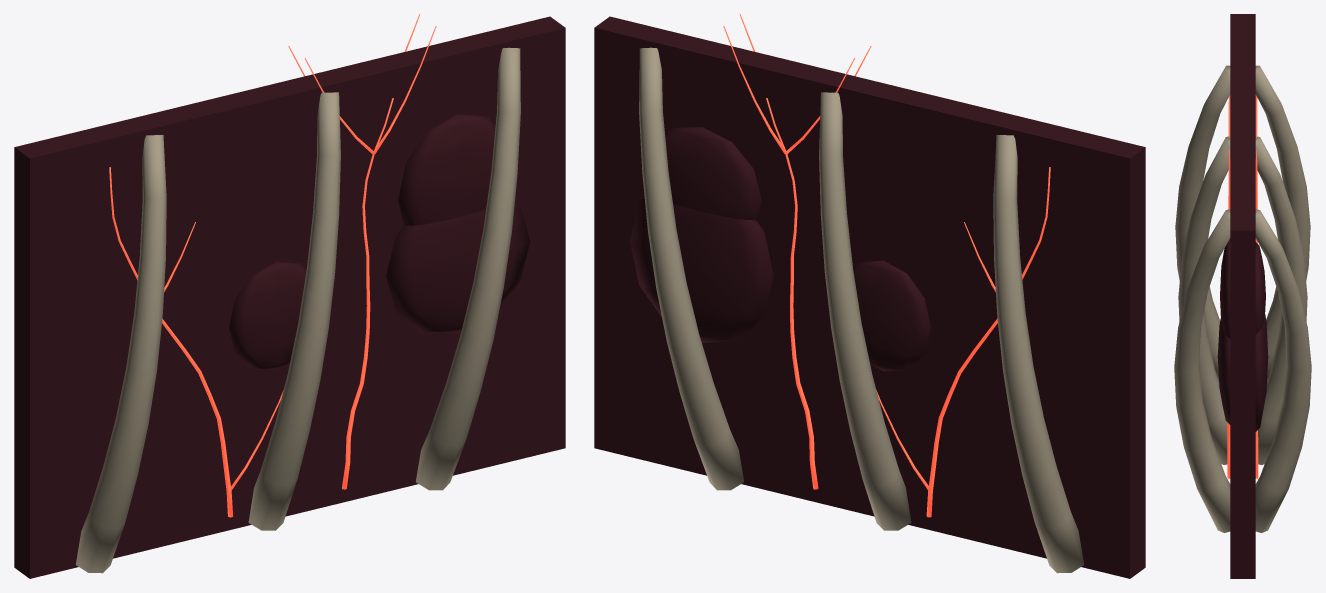
The model's file is SM_Wall_Rib.fbx.
The picture shows the model from 3 angles, left to right: view 1: azimuth 30°, elevation 25°; view 2: azimuth 150°, elevation 25°; view 3: azimuth 270°, elevation 25°; orthographic projection. The views are drawn at different scales.
Visible parts, largest first — view 1: SM_Wall_Rib; view 2: SM_Wall_Rib; view 3: SM_Wall_Rib.
Part boxes in pixels (x1=…): SM_Wall_Rib: x1=14, y1=14, x2=565, y2=578; SM_Wall_Rib: x1=594, y1=14, x2=1145, y2=578; SM_Wall_Rib: x1=1174, y1=14, x2=1311, y2=578.
Size of what is drawn, in the model's own units: 4 by 3.28 by 1.07.
